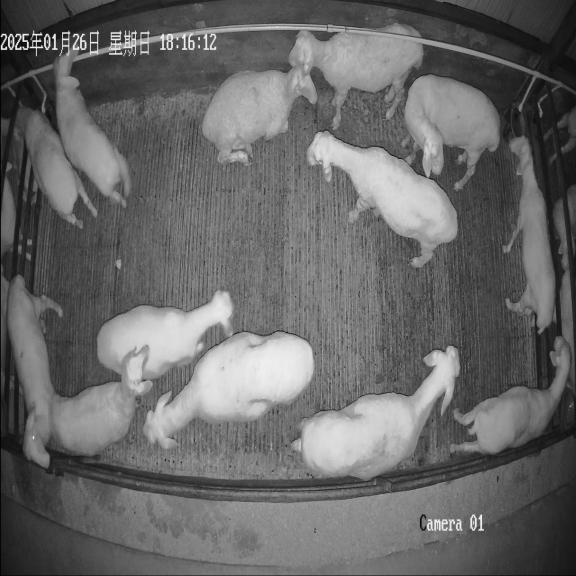drinking: (15, 104, 97, 228)
lying: (202, 66, 317, 164)
stand: (291, 346, 460, 480), (307, 131, 457, 267), (143, 331, 314, 449), (450, 336, 571, 454), (289, 23, 423, 129), (54, 48, 132, 208), (97, 291, 233, 380), (50, 345, 152, 456), (404, 74, 500, 190), (7, 275, 62, 467), (503, 136, 555, 333)
